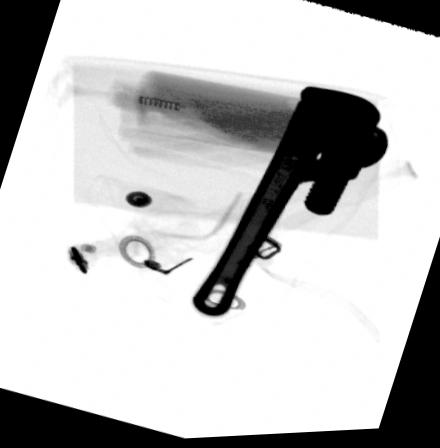Wrench: (191, 88, 391, 321)
